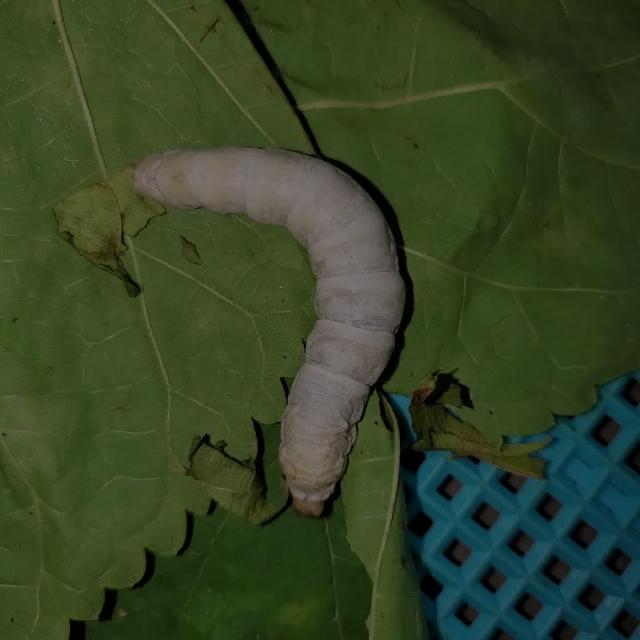Grasserie: (113, 123, 494, 545)
